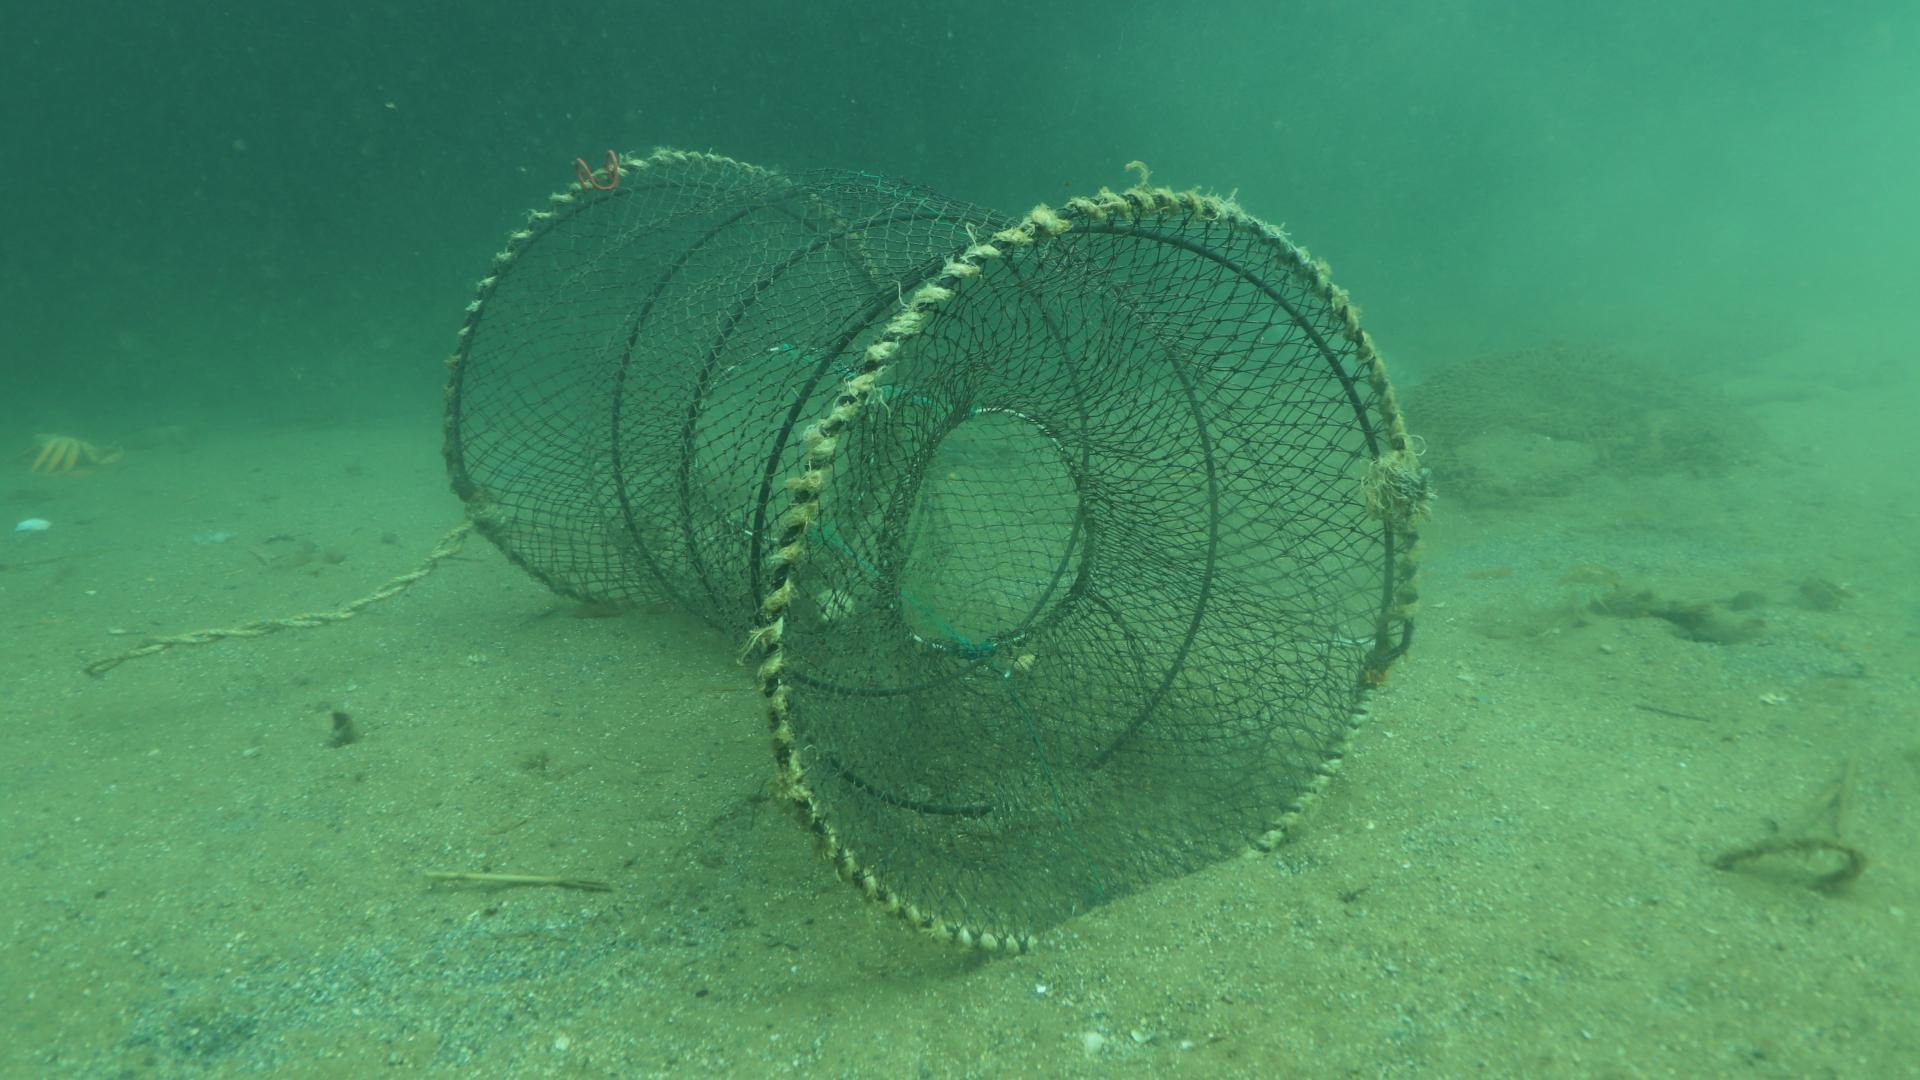bundle of ropes: (79, 509, 479, 687)
spring fish trap: (436, 145, 1441, 951)
